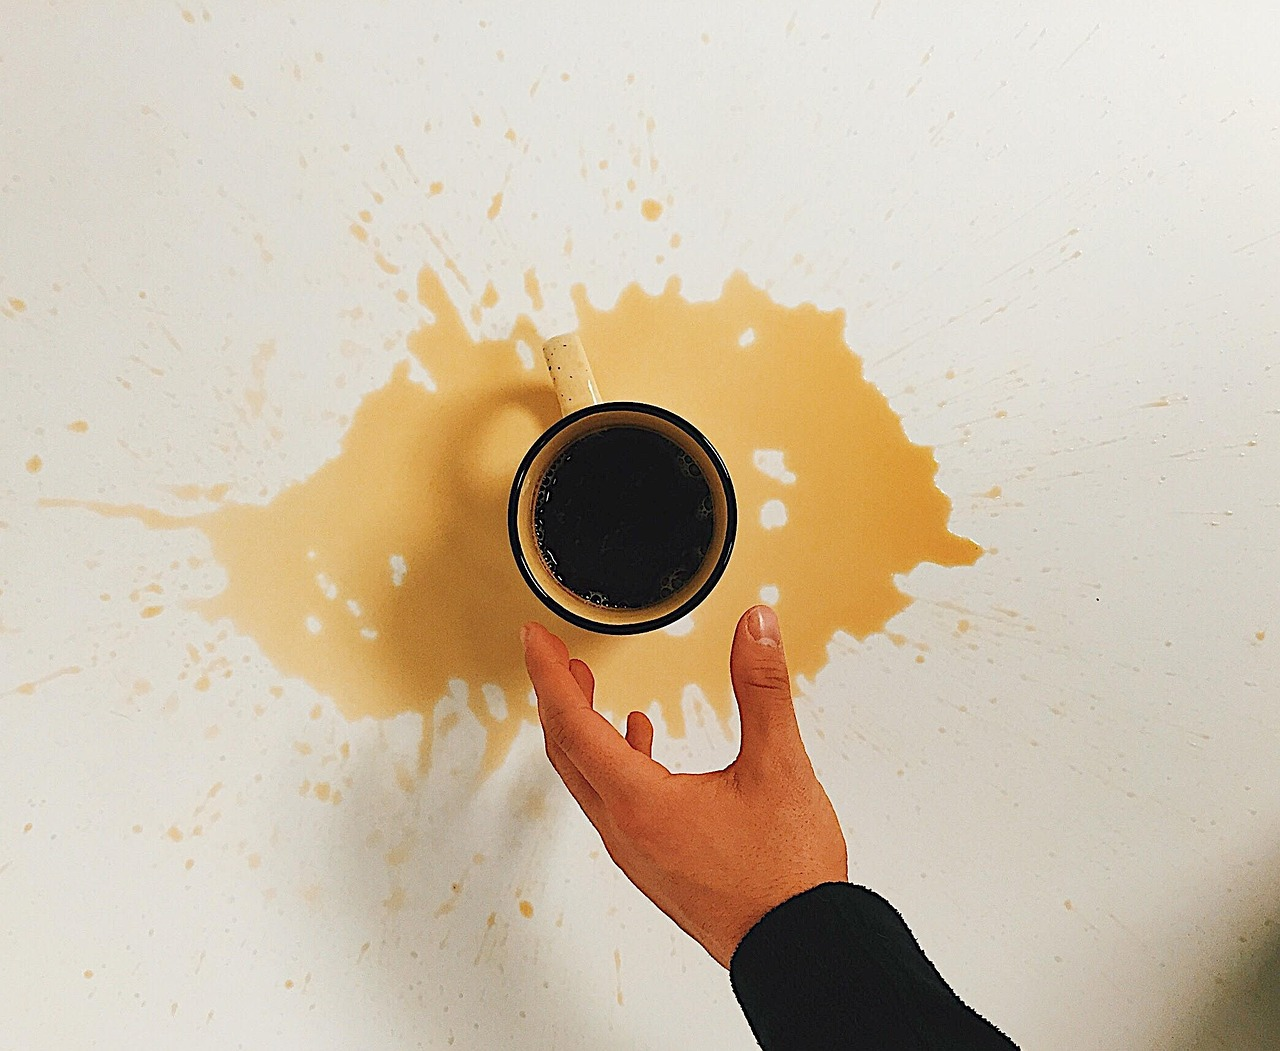mug: (443, 313, 784, 672)
